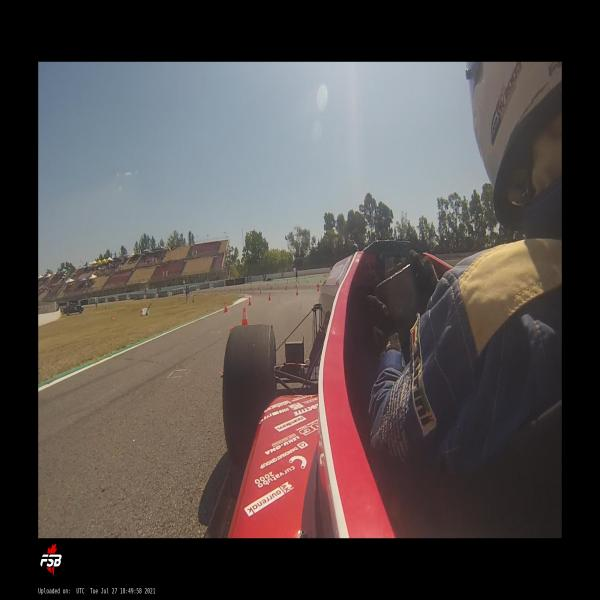orange_cone: (242, 308, 249, 326), (224, 301, 228, 312), (248, 296, 252, 305), (268, 293, 272, 300), (317, 284, 320, 292), (296, 288, 299, 296)
